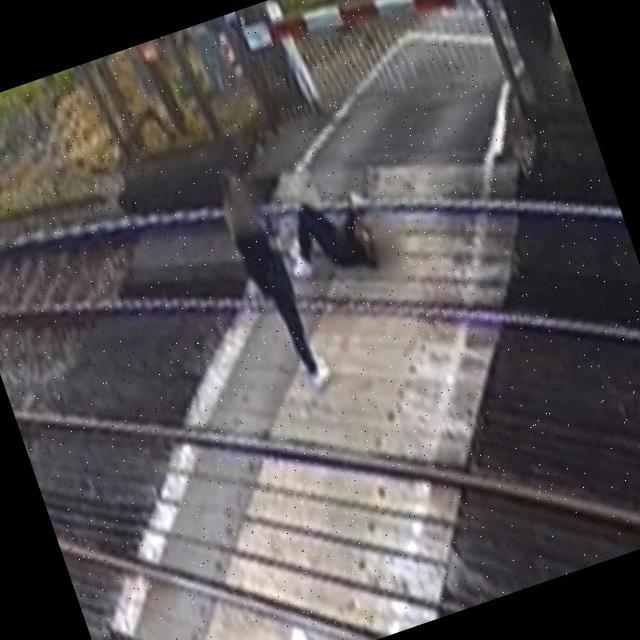person: (184, 152, 349, 405), (258, 157, 409, 302)
